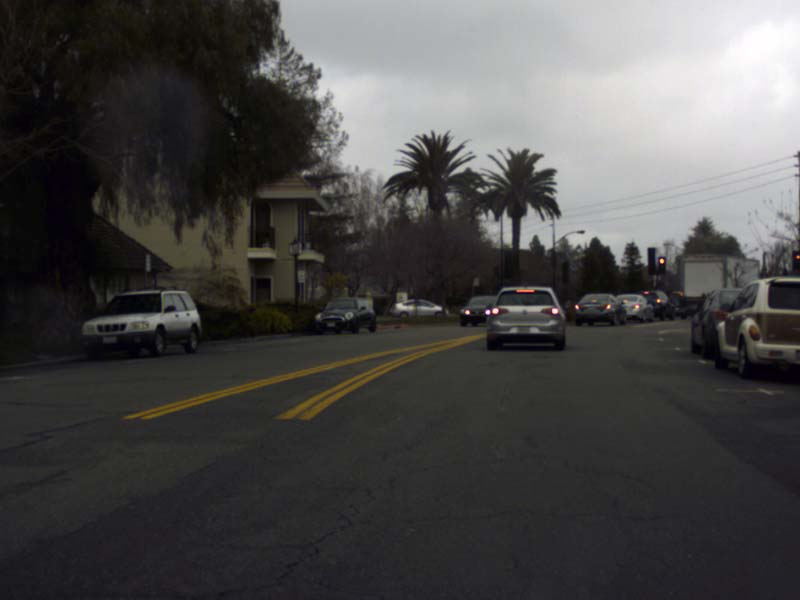Red: (657, 256, 665, 274)
